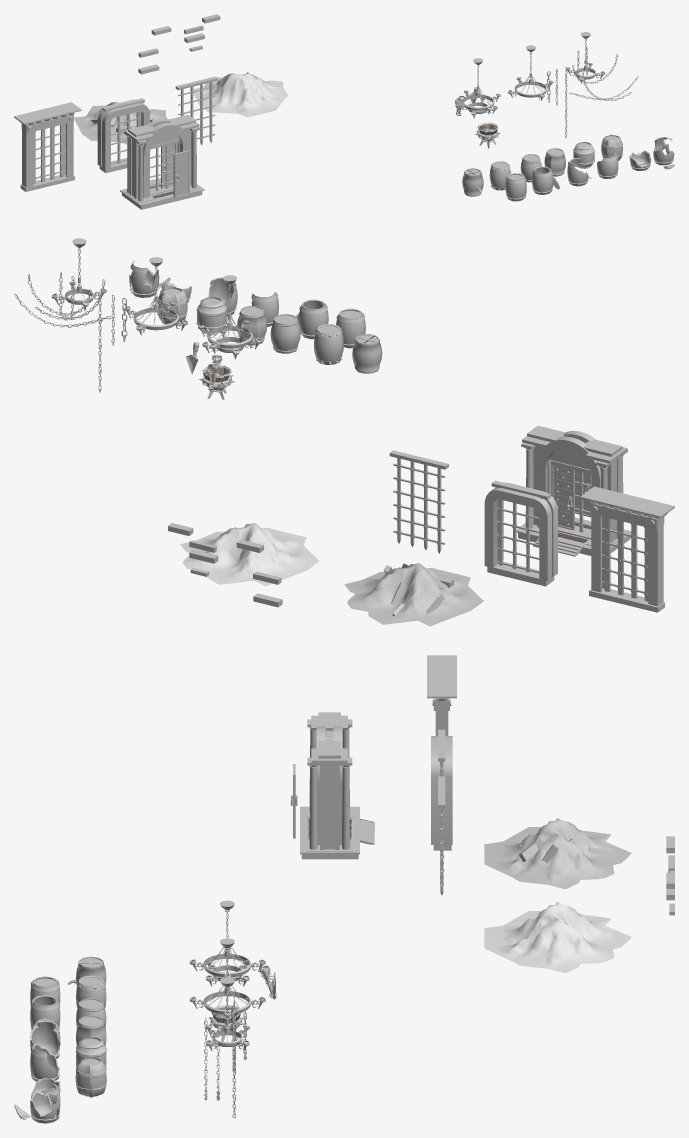
The model's file is DecoAssets.FBX.
3 views of the same model, one above another, from view 1: azimuth 30°, elevation 25°; view 2: azimuth 150°, elevation 25°; view 3: azimuth 270°, elevation 25° (orthographic). The views are drawn at different scales.
Visible parts, largest first — view 1: GarbageMount, Box149, Box142, Box129, GarbageMount001, Box141, gate001, Box147, Barrel007, Barrel006, Barrel004, Barrel000 (+12 smaller); view 2: GarbageMount001, GarbageMount, Box149, Box129, Box142, Box141, gate, Barrel000, Barrel004, Barrel001, Barrel007, Barrel002 (+10 smaller); view 3: GarbageMount, GarbageMount001, Box142, Box149, Box129, Box147, Barrel003, Barrel011, Barrel009, Box141, Barrel008, Barrel007 (+1 smaller).
Part boxes in pixels (<box>): GarbageMount: <box>193,72,288,117</box>; Box149: <box>14,102,81,187</box>; Box142: <box>123,114,200,203</box>; Box129: <box>97,99,149,169</box>; GarbageMount001: <box>74,102,167,144</box>; Box141: <box>143,118,188,198</box>; gate001: <box>173,150,189,197</box>; Box147: <box>120,180,204,209</box>; Barrel007: <box>532,166,559,194</box>; Barrel006: <box>505,173,526,201</box>; Barrel004: <box>462,168,483,196</box>; Barrel000: <box>489,161,510,190</box>; GarbageMount001: <box>344,563,483,626</box>; GarbageMount: <box>180,523,319,586</box>; Box149: <box>580,486,674,606</box>; Box129: <box>484,482,557,581</box>; Box142: <box>521,425,628,546</box>; Box141: <box>537,431,600,527</box>; gate: <box>552,465,574,530</box>; Barrel000: <box>314,324,343,364</box>; Barrel004: <box>352,334,382,373</box>; Barrel001: <box>270,314,300,353</box>; Barrel007: <box>295,299,328,339</box>; Barrel002: <box>196,297,226,334</box>; GarbageMount: <box>484,902,631,973</box>; GarbageMount001: <box>484,818,631,889</box>; Box142: <box>306,712,352,851</box>; Box149: <box>427,655,456,771</box>; Box129: <box>431,736,452,844</box>; Box147: <box>300,806,359,859</box>; Barrel003: <box>75,1057,106,1097</box>; Barrel011: <box>14,1083,60,1123</box>; Barrel009: <box>30,1043,59,1081</box>; Box141: <box>316,726,342,844</box>; Barrel008: <box>30,1020,60,1058</box>; Barrel007: <box>30,995,60,1030</box>.
Bounding box in the file's own units: 744 × 134 × 535.
